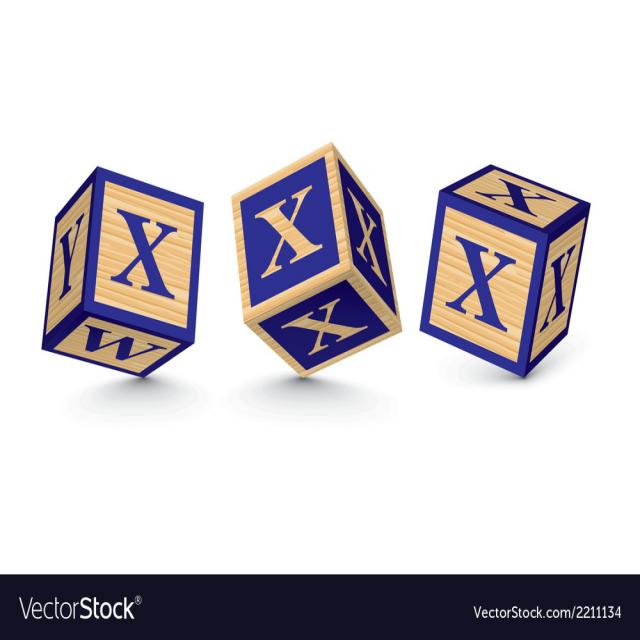X: (103, 194, 186, 313)
